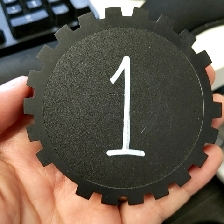gear: (21, 6, 224, 207)
missing: (35, 144, 95, 201), (195, 47, 224, 120)
